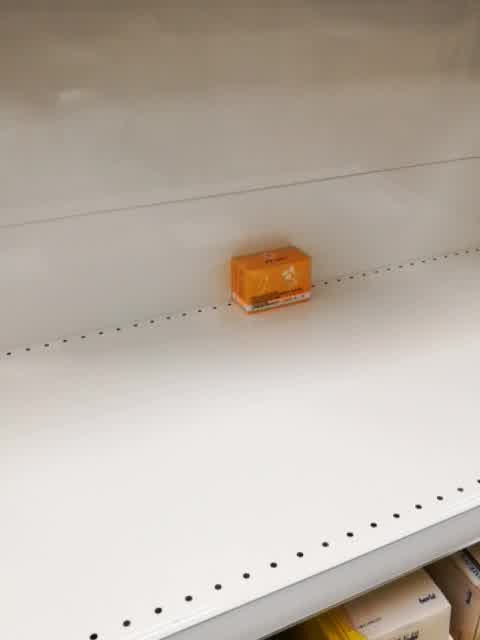jasminetea: (229, 246, 314, 316)
